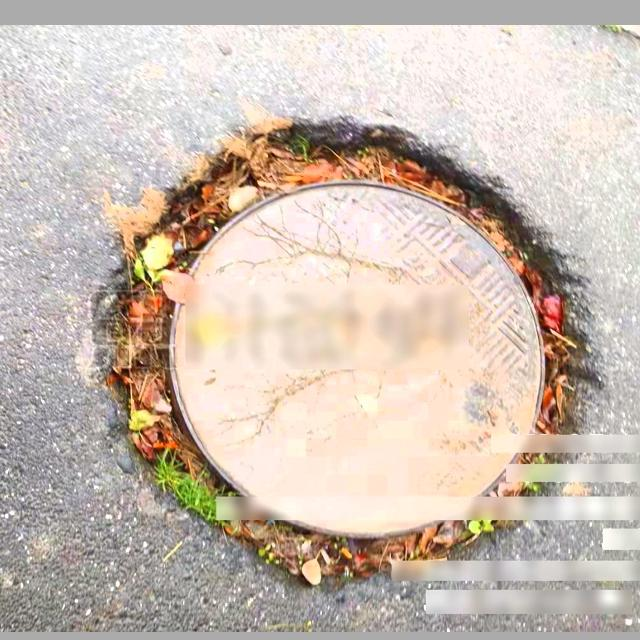circle: (93, 123, 606, 579)
